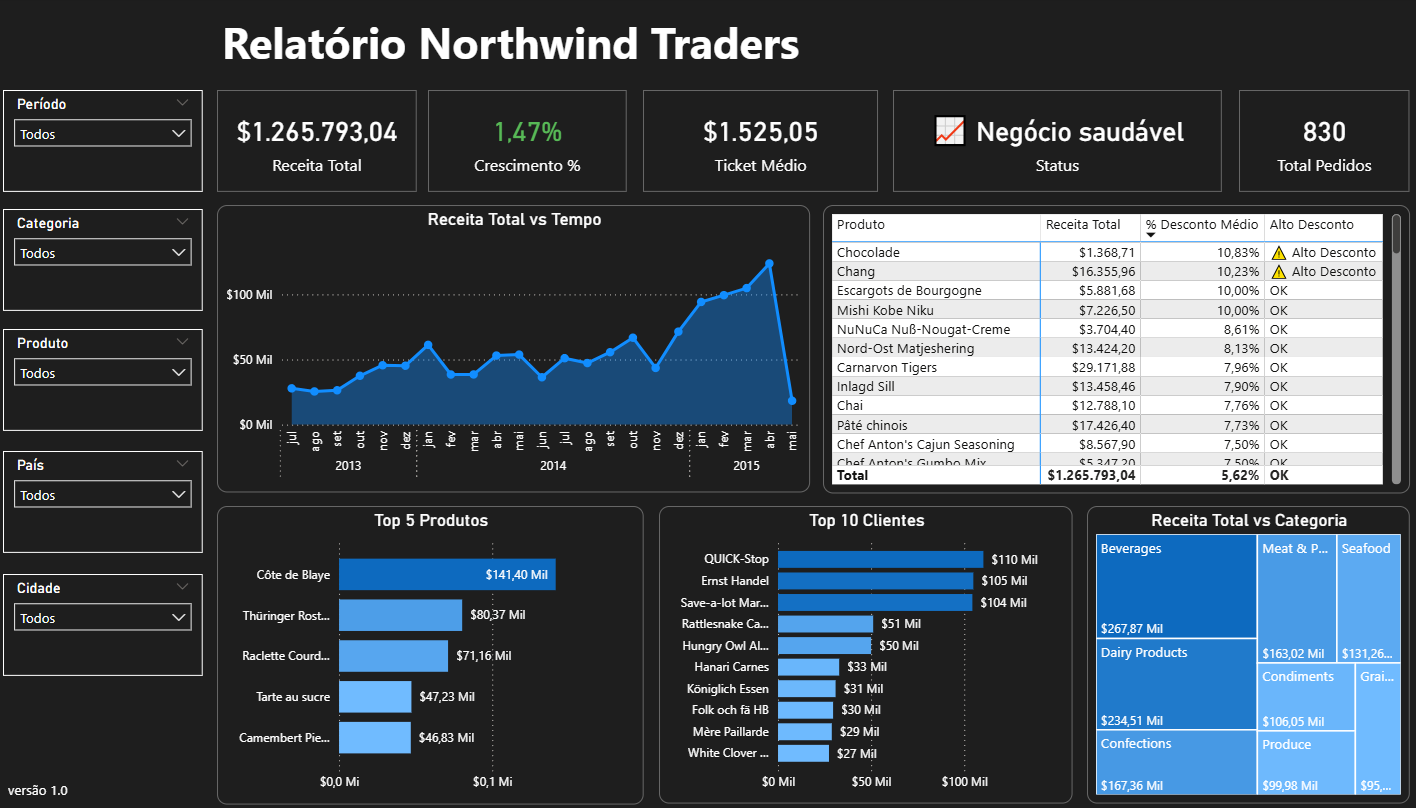

The page's visual inventory and layout, read from the dashboard file:
{"tool":"powerbi","page":{"name":"Página 1","canvas":[1400,800],"ordinal":0},"visuals":[{"type":"card","title":"Média MQL","fields":{"Values":["Medidas.Receita Total"]},"box":[216.7,92.6,198,101.5],"z":0},{"type":"card","title":"Média MQL","fields":{"Values":["Medidas.Crescimento %"]},"box":[426.6,92.6,197,101.5],"z":1000},{"type":"card","title":"Média MQL","fields":{"Values":["Medidas.Ticket Médio"]},"box":[639.4,92.6,233.5,101.5],"z":2000},{"type":"card","title":"Média MQL","fields":{"Values":["Medidas.Total Pedidos"]},"box":[1230.5,92.6,169.5,101.5],"z":3000},{"type":"areaChart","title":"Receita Total vs Tempo","fields":{"Category":["dCalendario.Ano","dCalendario.Mes Nome"],"Y":["Medidas.Receita Total"]},"box":[216.9,206.2,588.2,284.7],"z":4000},{"type":"card","title":"Média MQL","fields":{"Values":["Medidas.Alerta Executivo"]},"box":[887.7,92.6,326.1,101.5],"z":5000},{"type":"slicer","fields":{"Values":["dCalendario.Ano","dCalendario.Mes Nome"]},"box":[0,92.6,198,101.5],"z":6000},{"type":"textbox","box":[216.7,10.8,656.2,68],"z":7000},{"type":"clusteredBarChart","title":"Top 10 Clientes","fields":{"Y":["Medidas.Receita Total"],"Category":["customers.companyName"]},"box":[655.3,504.6,410.4,295.4],"z":8000},{"type":"clusteredBarChart","title":"Top 5 Produtos","fields":{"Y":["Medidas.Receita Total"],"Category":["products.productName"]},"box":[216.7,504.4,422.7,295.6],"z":9000},{"type":"pivotTable","fields":{"Rows":["products.productName"],"Values":["Medidas.Receita Total","Medidas.% Desconto Médio","Medidas.Alto Desconto"]},"box":[817.9,206.2,582.3,285.7],"z":10000},{"type":"treemap","title":"Receita Total vs Categoria","fields":{"Values":["Medidas.Receita Total"],"Group":["categories.categoryName"]},"box":[1079.6,504.6,320.2,295.4],"z":11000},{"type":"slicer","fields":{"Values":["customers.country"]},"box":[0,450.2,198,101.5],"z":12000},{"type":"slicer","fields":{"Values":["categories.categoryName"]},"box":[0,209.9,198,101.5],"z":13000},{"type":"slicer","fields":{"Values":["products.productName"]},"box":[0,329.1,198,101.5],"z":13001},{"type":"slicer","fields":{"Values":["customers.city"]},"box":[0,572.4,198,101.5],"z":13002},{"type":"textbox","box":[0,772.4,75.9,27.6],"z":13003}]}

Visuals, with their boxes in screenshot pixels (x1, y1, x2, y2), scaled from the page's 1400x800 canvas onto the 1416x808 screenshot:
"Média MQL" card: (left=219, top=94, right=419, bottom=196)
"Média MQL" card: (left=431, top=94, right=631, bottom=196)
"Média MQL" card: (left=647, top=94, right=883, bottom=196)
"Média MQL" card: (left=1245, top=94, right=1415, bottom=196)
"Receita Total vs Tempo" areaChart: (left=219, top=208, right=814, bottom=496)
"Média MQL" card: (left=898, top=94, right=1228, bottom=196)
slicer - dCalendario.Ano x dCalendario.Mes Nome: (left=0, top=94, right=200, bottom=196)
textbox: (left=219, top=11, right=883, bottom=80)
"Top 10 Clientes" clusteredBarChart: (left=663, top=510, right=1078, bottom=807)
"Top 5 Produtos" clusteredBarChart: (left=219, top=509, right=647, bottom=807)
pivotTable - products.productName x Medidas.Receita Total: (left=827, top=208, right=1415, bottom=497)
"Receita Total vs Categoria" treemap: (left=1092, top=510, right=1415, bottom=807)
slicer - customers.country: (left=0, top=455, right=200, bottom=557)
slicer - categories.categoryName: (left=0, top=212, right=200, bottom=315)
slicer - products.productName: (left=0, top=332, right=200, bottom=435)
slicer - customers.city: (left=0, top=578, right=200, bottom=681)
textbox: (left=0, top=780, right=77, bottom=807)
